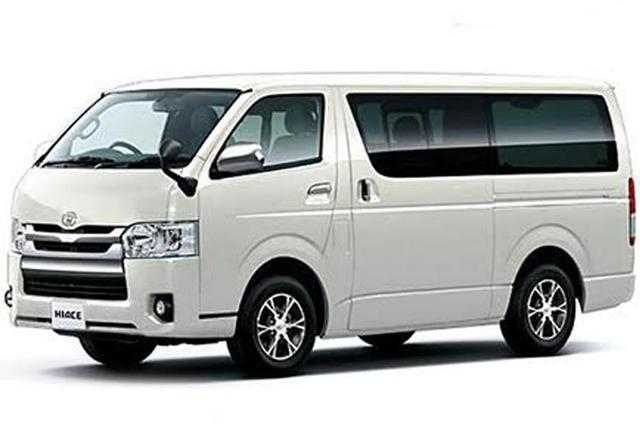van: (8, 74, 633, 378)
